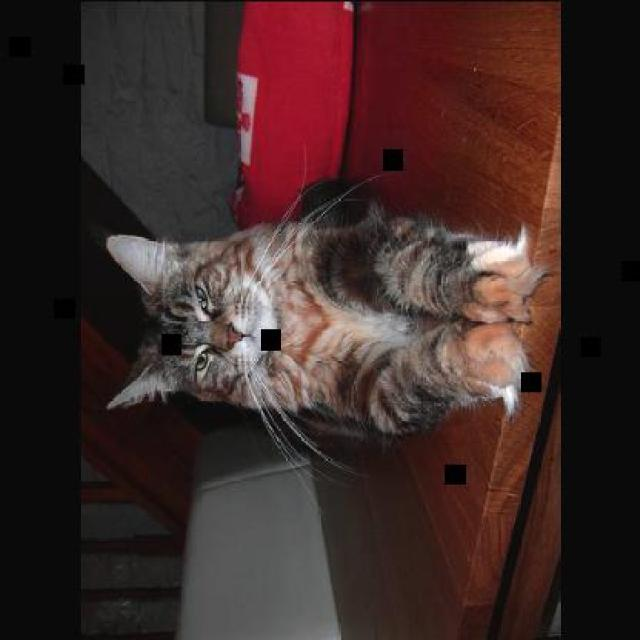unauthorized: (103, 177, 551, 486)
